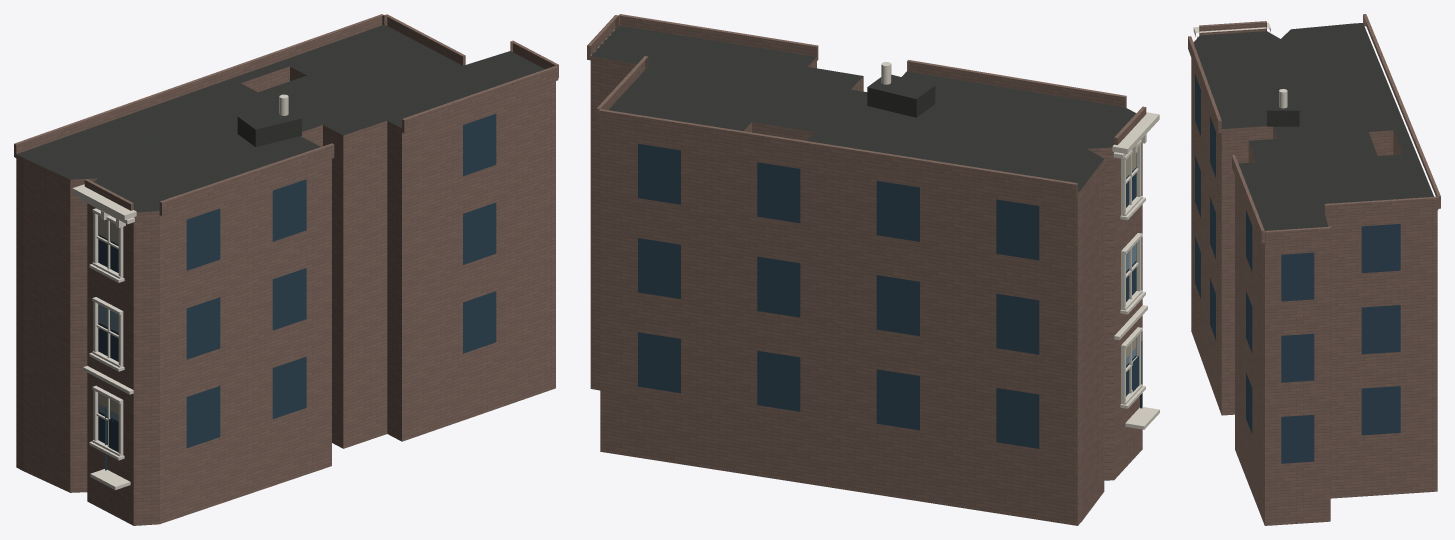
The picture shows the model from 3 angles, left to right: view 1: azimuth 30°, elevation 25°; view 2: azimuth 150°, elevation 25°; view 3: azimuth 270°, elevation 25°; orthographic projection. The views are drawn at different scales.
Visible parts, largest first — view 1: Footprint 0 / surface 2, Footprint 0 / surface 1, Inset glazing, Facade bay volumes, Cornices and window frames, Inferred rooftop service enclosure / surface 5, Inferred rooftop service enclosure / surface 3; view 2: Footprint 0 / surface 2, Footprint 0 / surface 1, Inset glazing, Facade bay volumes, Cornices and window frames, Inferred rooftop service enclosure / surface 6, Inferred rooftop service enclosure / surface 3; view 3: Footprint 0 / surface 2, Footprint 0 / surface 1, Inset glazing, Facade bay volumes, Inferred rooftop service enclosure / surface 1, Inferred rooftop service enclosure / surface 3.
Boxes of the visible parts, left/top/right/bottom form: Footprint 0 / surface 2: left=16, top=66, right=555, bottom=525; Footprint 0 / surface 1: left=17, top=24, right=544, bottom=212; Inset glazing: left=98, top=114, right=496, bottom=452; Facade bay volumes: left=14, top=14, right=558, bottom=215; Cornices and window frames: left=72, top=184, right=136, bottom=489; Inferred rooftop service enclosure / surface 5: left=255, top=118, right=301, bottom=146; Inferred rooftop service enclosure / surface 3: left=238, top=106, right=301, bottom=129; Footprint 0 / surface 2: left=590, top=56, right=1142, bottom=525; Footprint 0 / surface 1: left=591, top=25, right=1136, bottom=192; Inset glazing: left=638, top=143, right=1138, bottom=448; Facade bay volumes: left=587, top=14, right=1146, bottom=198; Cornices and window frames: left=1112, top=112, right=1159, bottom=429; Inferred rooftop service enclosure / surface 6: left=867, top=87, right=916, bottom=117; Inferred rooftop service enclosure / surface 3: left=867, top=74, right=934, bottom=99; Footprint 0 / surface 2: left=1191, top=58, right=1437, bottom=525; Footprint 0 / surface 1: left=1193, top=23, right=1433, bottom=230; Inset glazing: left=1195, top=74, right=1400, bottom=463; Facade bay volumes: left=1188, top=14, right=1440, bottom=244; Inferred rooftop service enclosure / surface 1: left=1267, top=110, right=1299, bottom=126; Inferred rooftop service enclosure / surface 3: left=1267, top=90, right=1299, bottom=110.
Bounding box in the file's own units: 18.99 × 12.92 × 9.3.
